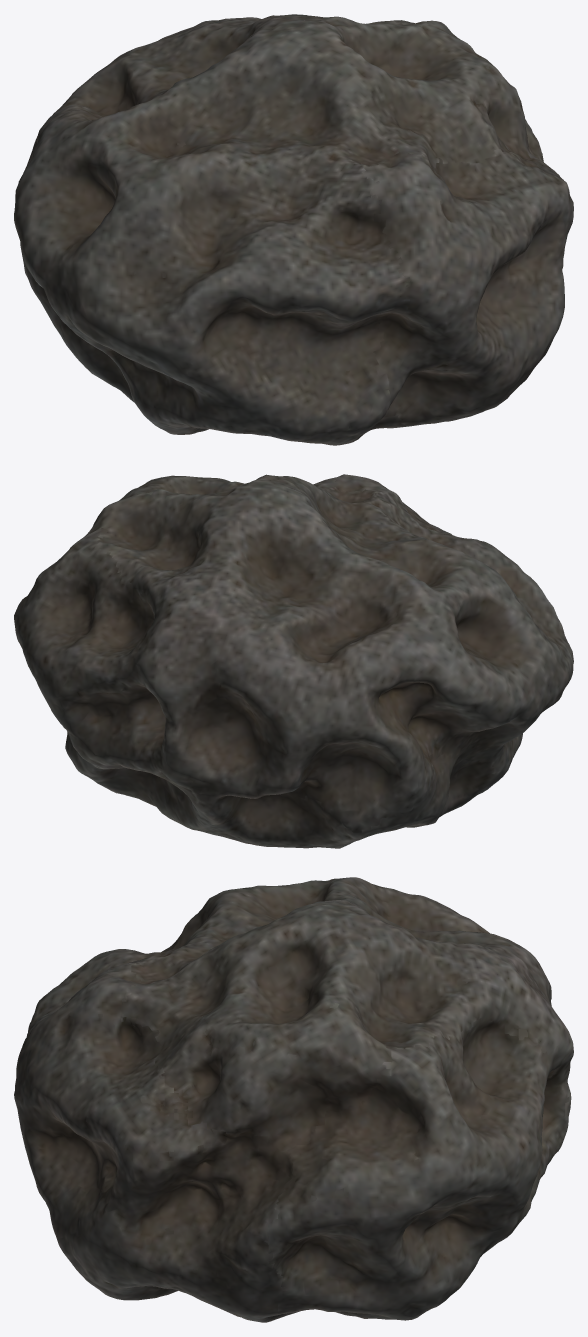
Rendered from asteroid_common_2_lod1.glb.
3 views of the same model, one above another, from view 1: azimuth 30°, elevation 25°; view 2: azimuth 150°, elevation 25°; view 3: azimuth 270°, elevation 25° (orthographic). The views are drawn at different scales.
Visible parts, largest first — view 1: model; view 2: model; view 3: model.
Part boxes in pixels (<box>): model: <box>14,14,573,445</box>; model: <box>14,474,573,848</box>; model: <box>14,877,573,1322</box>.
Bounding box in the file's own units: 1.89 × 1.26 × 1.73.
1 material, 1 textured.
